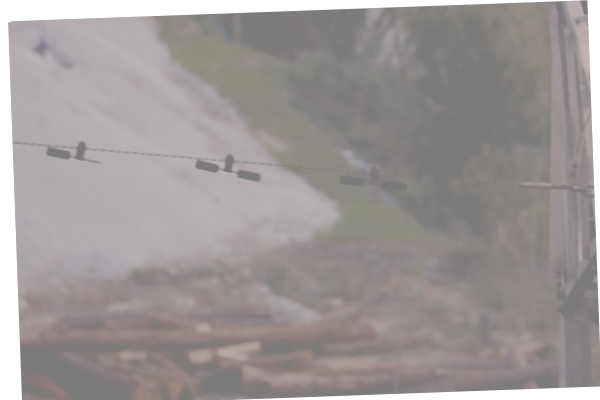damper: (193, 151, 261, 183), (337, 165, 410, 192)
damper_defect: (44, 139, 105, 167)
